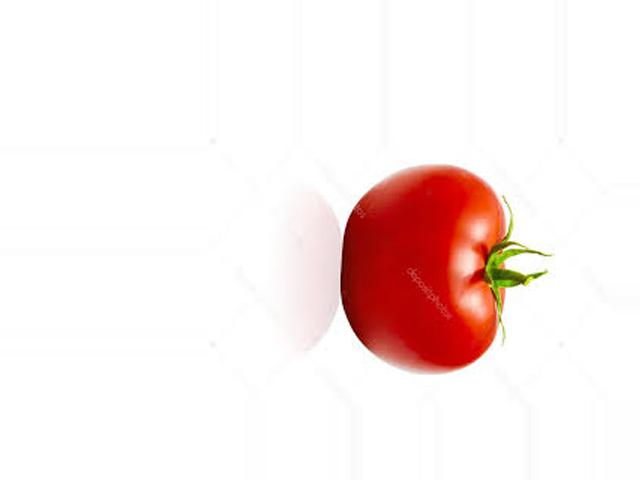tomato: (340, 163, 504, 375)
